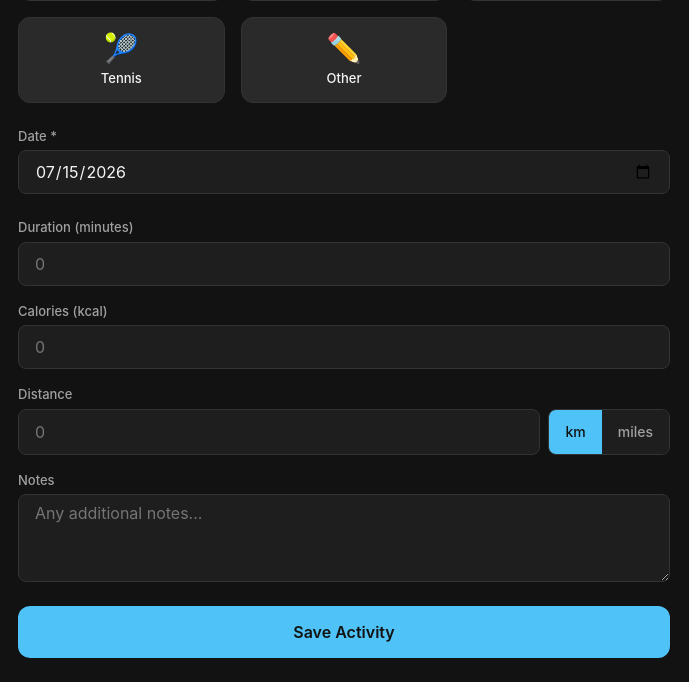
Test: ActivityLogPage › Validation: activity type and date required (Req 9.5) › shows error when submitting without selecting activity type
(page scrolled)
Step 1. Click the button with test id "submit-button" → (344, 632), box [18,606,670,658]
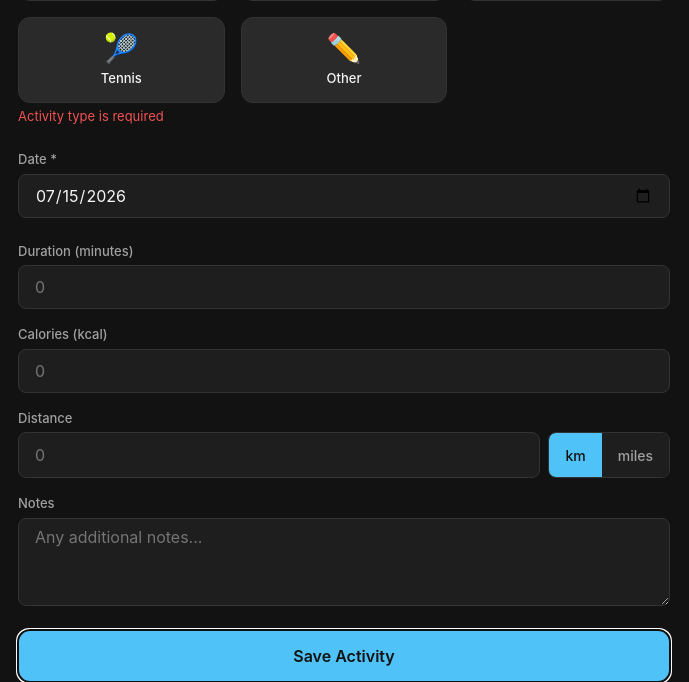
Now the message with test id "error-activity-type" reads "Activity type is required", box [18,108,164,124]
